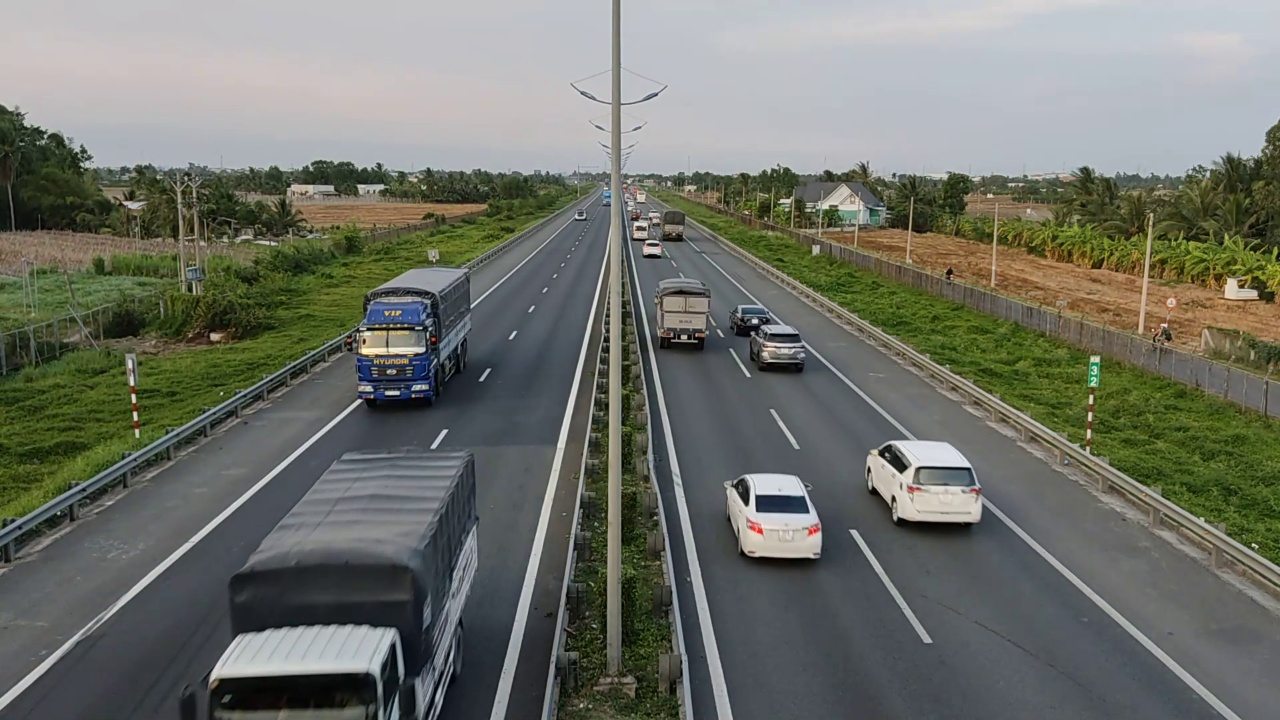car: (864, 439, 984, 525), (723, 472, 823, 560), (749, 321, 807, 371), (728, 304, 773, 335), (641, 240, 665, 257)
truck: (199, 442, 476, 717), (349, 264, 473, 408), (653, 277, 711, 351)
